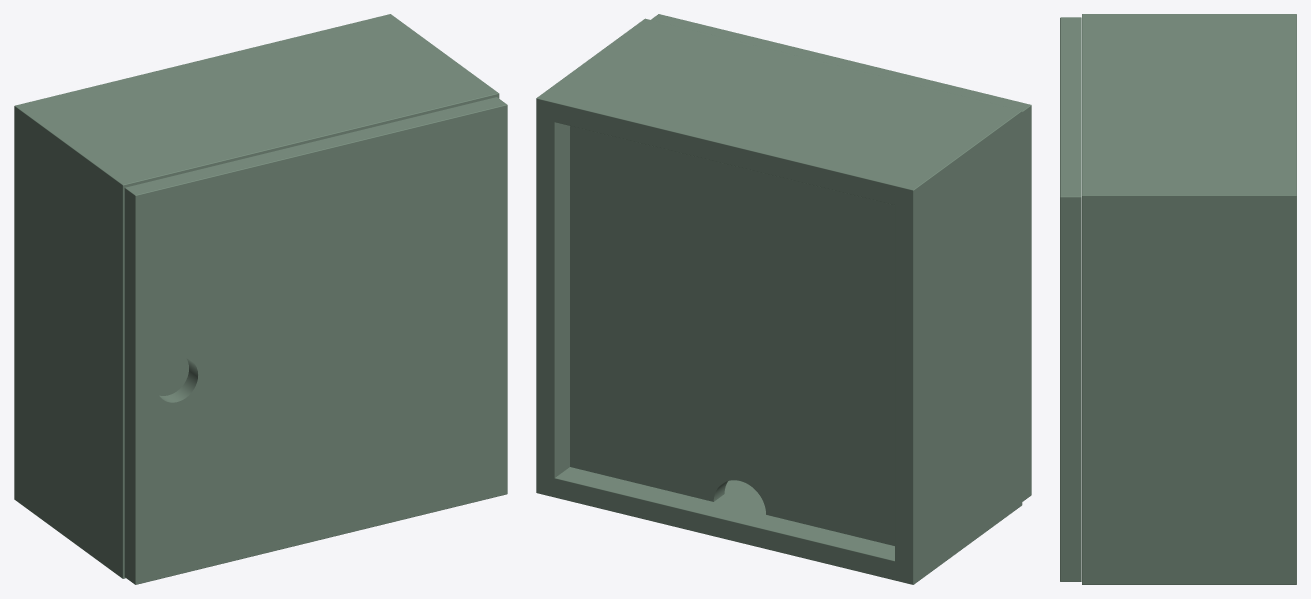
Rendered from MODH_1X1_D_B_IZQ_AP_VA.glb.
The picture shows the model from 3 angles, left to right: view 1: azimuth 30°, elevation 25°; view 2: azimuth 150°, elevation 25°; view 3: azimuth 270°, elevation 25°; orthographic projection.
Size of the model in its own units: 360 by 360 by 198.
